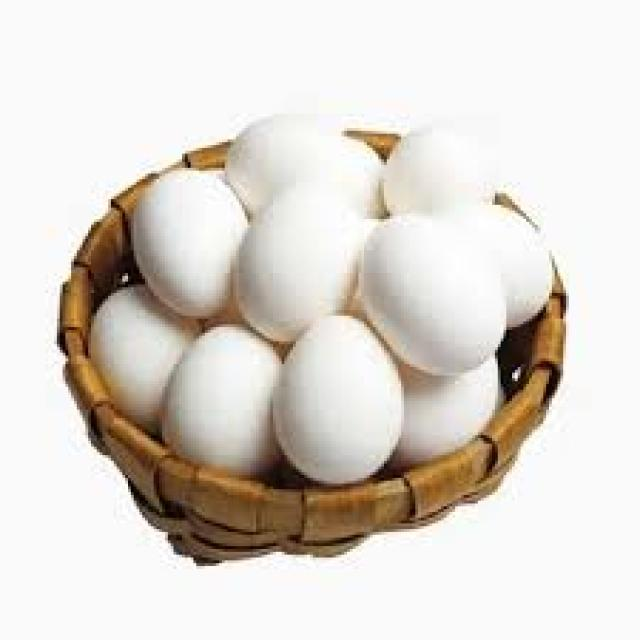White Egg: (361, 210, 505, 371), (272, 315, 400, 475), (240, 174, 354, 320), (173, 316, 269, 482), (137, 172, 241, 320), (229, 116, 366, 210), (380, 110, 494, 216)
